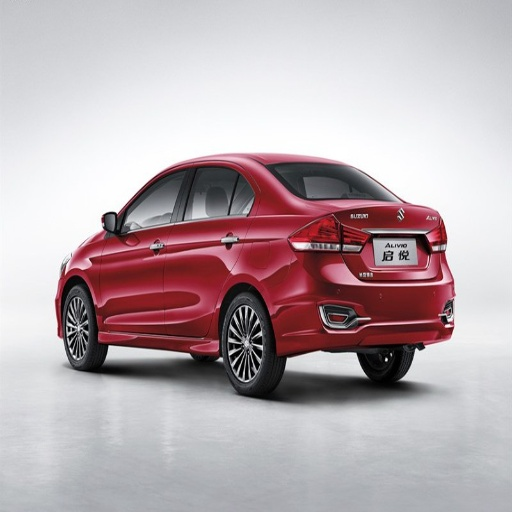back_bumper: (274, 257, 454, 353)
back_glass: (268, 163, 395, 200)
back_left_door: (165, 163, 256, 334)
tailgate: (341, 200, 431, 279)
